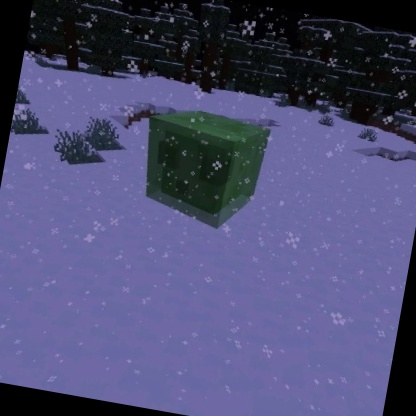slime: (129, 100, 274, 238)
